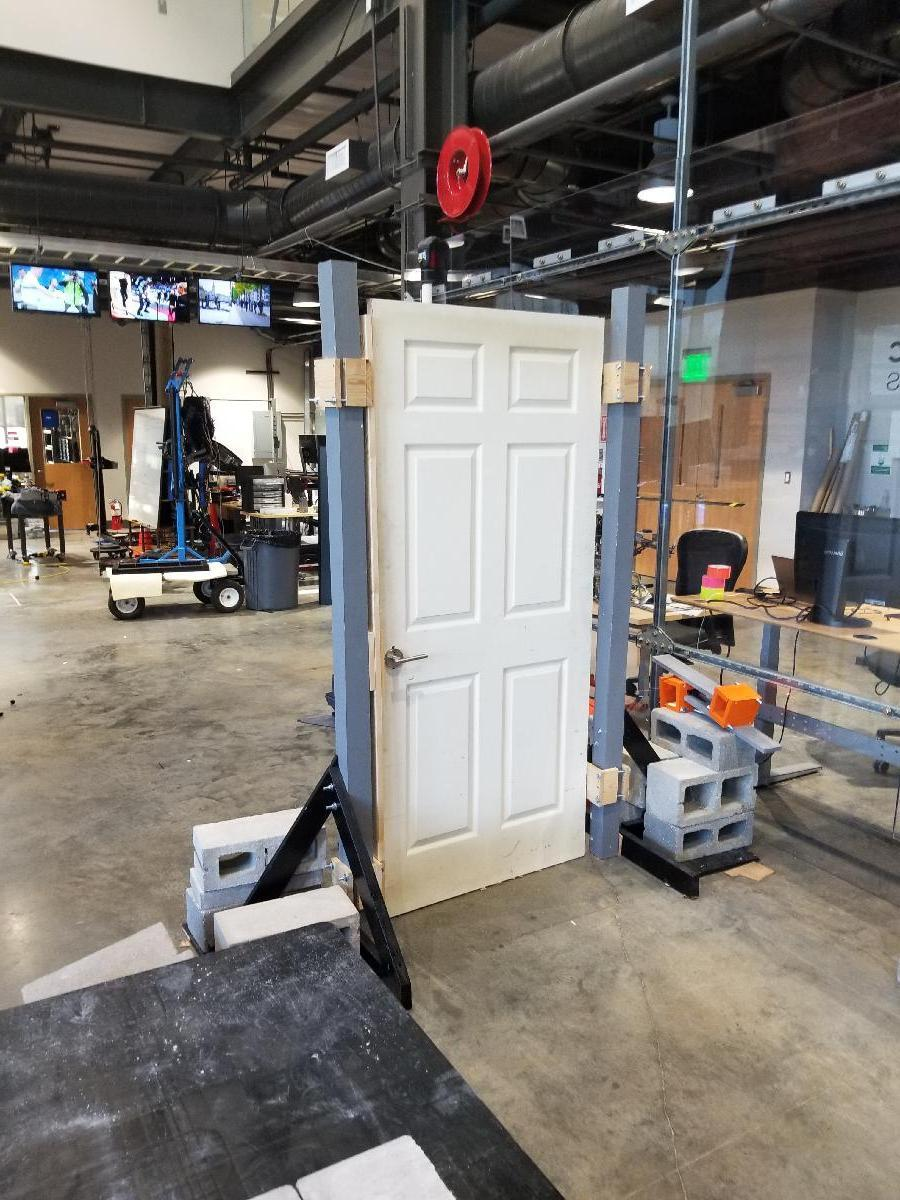door: (372, 313, 606, 907)
handle: (383, 643, 432, 674)
